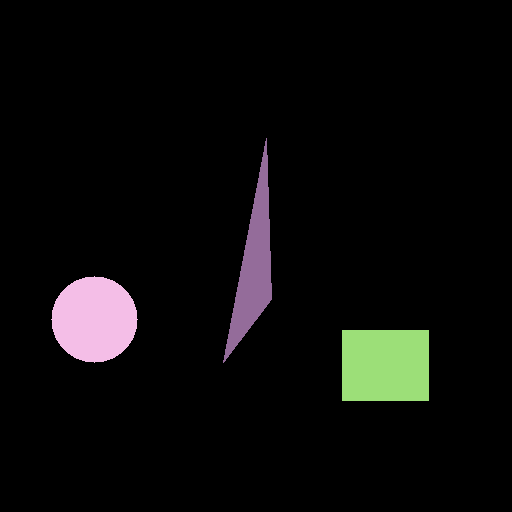circle: (51, 276, 137, 362)
rectangle: (342, 330, 428, 400)
triangle: (223, 138, 271, 362)
